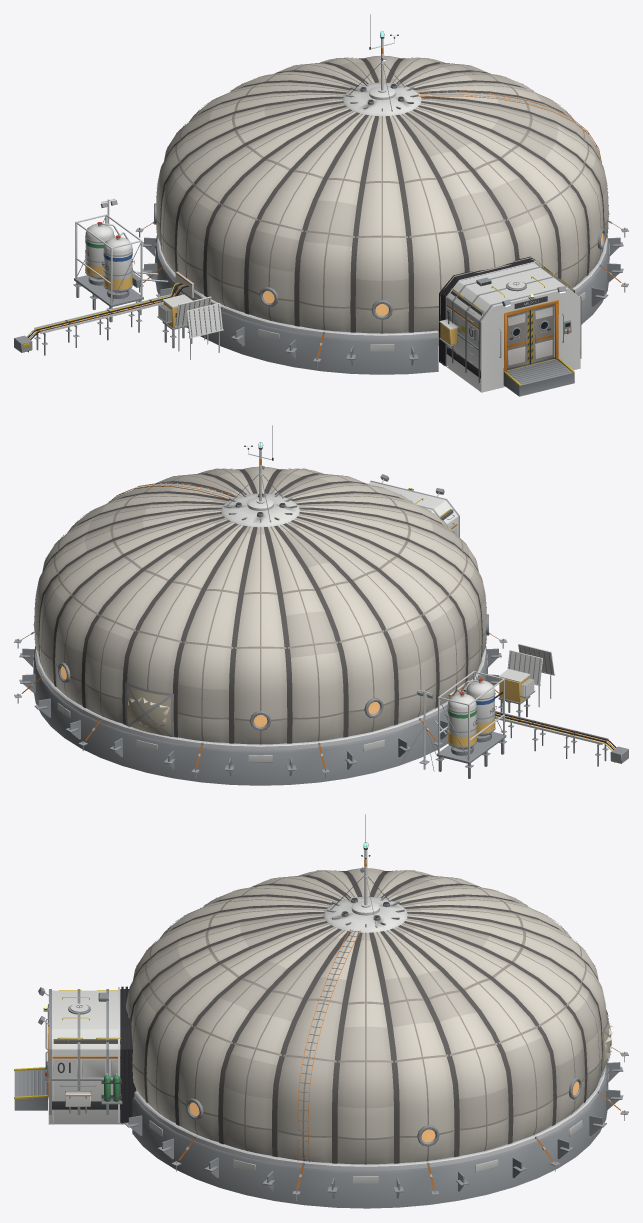
File: hab.glb
The picture shows the model from 3 angles, top to bottom: view 1: azimuth 30°, elevation 25°; view 2: azimuth 150°, elevation 25°; view 3: azimuth 270°, elevation 25°; orthographic projection. The views are drawn at different scales.
Visible parts, largest first — view 1: hab_mesh, door_outer_R_mesh, door_outer_L_mesh; view 2: hab_mesh, breach_patch_mesh; view 3: hab_mesh.
Part boxes in pixels (box(x1,y1,x2,y2)): hab_mesh: box(14, 14, 628, 396); door_outer_R_mesh: box(530, 304, 554, 364); door_outer_L_mesh: box(507, 310, 530, 370); hab_mesh: box(14, 425, 628, 785); breach_patch_mesh: box(125, 682, 174, 737); hab_mesh: box(14, 814, 628, 1208).
Size of the model in its own units: 26.16 by 11.56 by 22.58.
